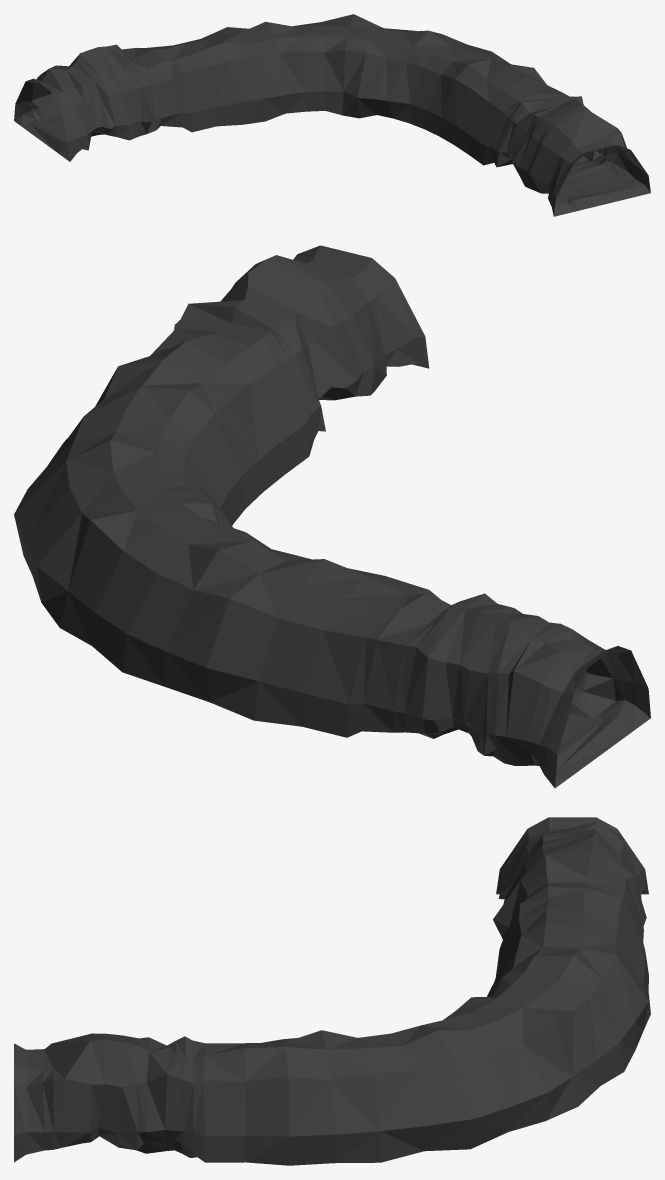
Rendered from Cave_12_LOD_1.fbx.
3 views of the same model, one above another, from view 1: azimuth 30°, elevation 25°; view 2: azimuth 150°, elevation 25°; view 3: azimuth 270°, elevation 25° (orthographic). The views are drawn at different scales.
Parts seen in each view (by area): view 1: polySurface36; view 2: polySurface36; view 3: polySurface36.
Part boxes in pixels (bbox=[...]): polySurface36: bbox=[14, 14, 650, 216]; polySurface36: bbox=[14, 245, 650, 788]; polySurface36: bbox=[14, 817, 650, 1165].
Size of the model in its own units: 34.42 by 6.33 by 34.4.
